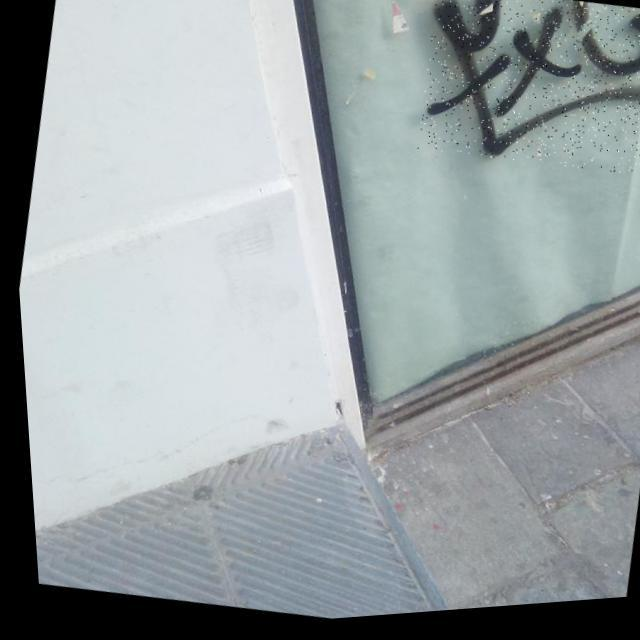-: (406, 0, 640, 201)
